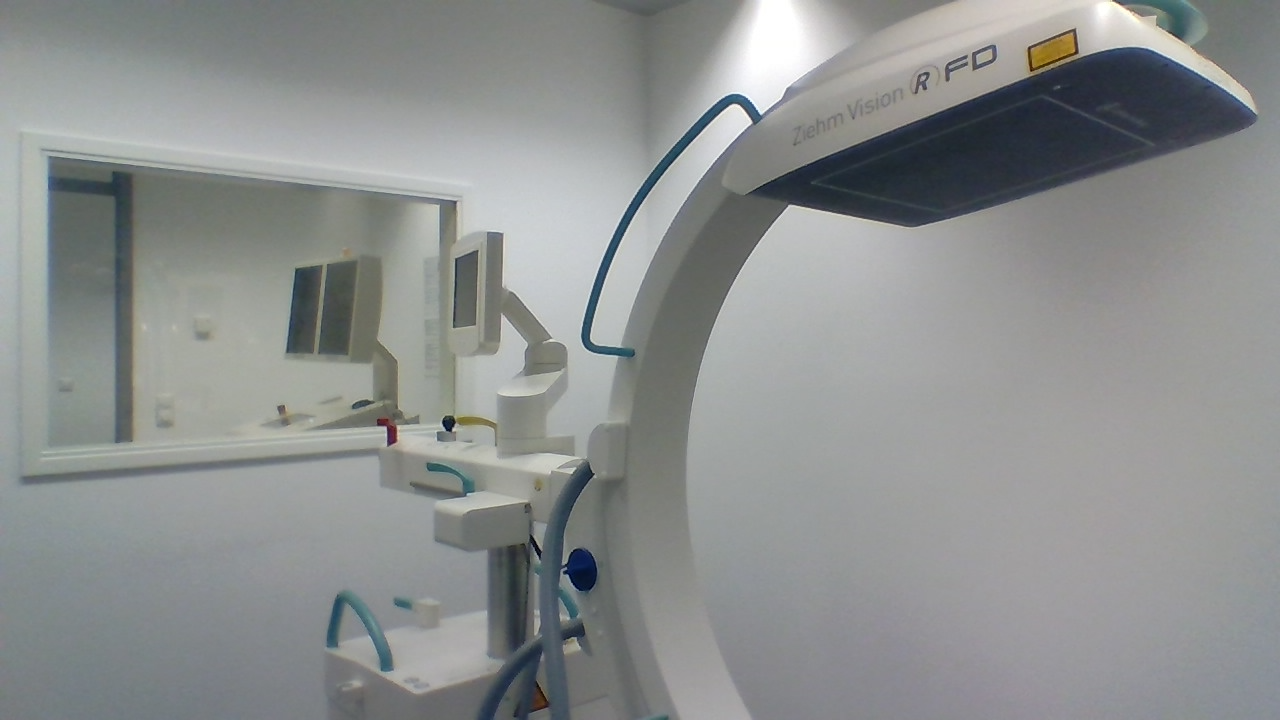carmBACK: (389, 592, 445, 624)
carmLOCK: (563, 544, 601, 595)
carmSCREEN: (445, 229, 504, 358)
carmUP: (721, 3, 1260, 228)
